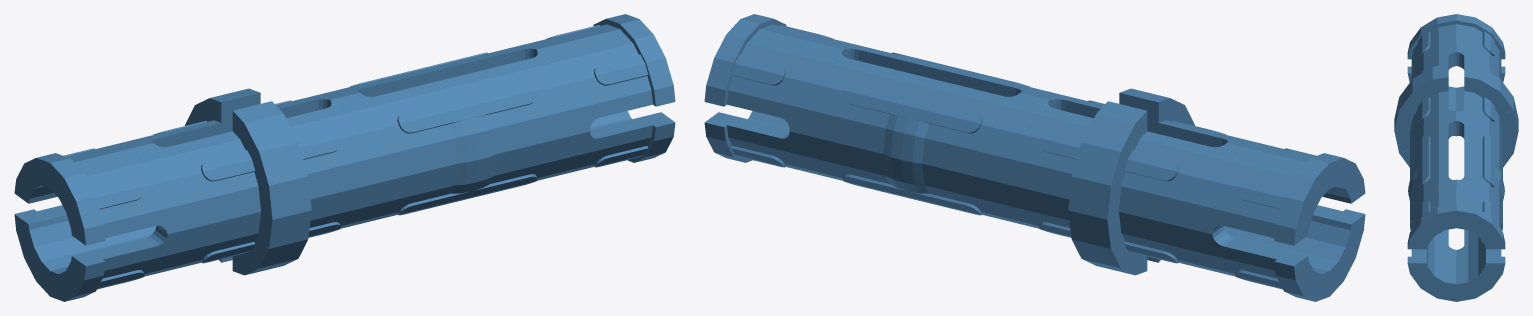
3 views of the same model, side by side, from view 1: azimuth 30°, elevation 25°; view 2: azimuth 150°, elevation 25°; view 3: azimuth 270°, elevation 25° (orthographic). The views are drawn at different scales.
Visible parts, largest first — view 1: world; view 2: world; view 3: world.
Boxes of the visible parts, bbox=[...] form: world: bbox=[14, 14, 675, 301]; world: bbox=[704, 14, 1365, 301]; world: bbox=[1394, 14, 1518, 301].
Size of the model in its own units: 0.024 by 0.00624 by 0.0064.
